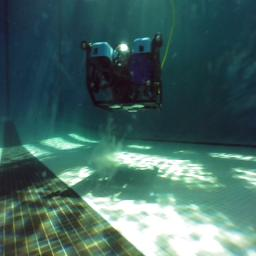front: (81, 34, 165, 112)
